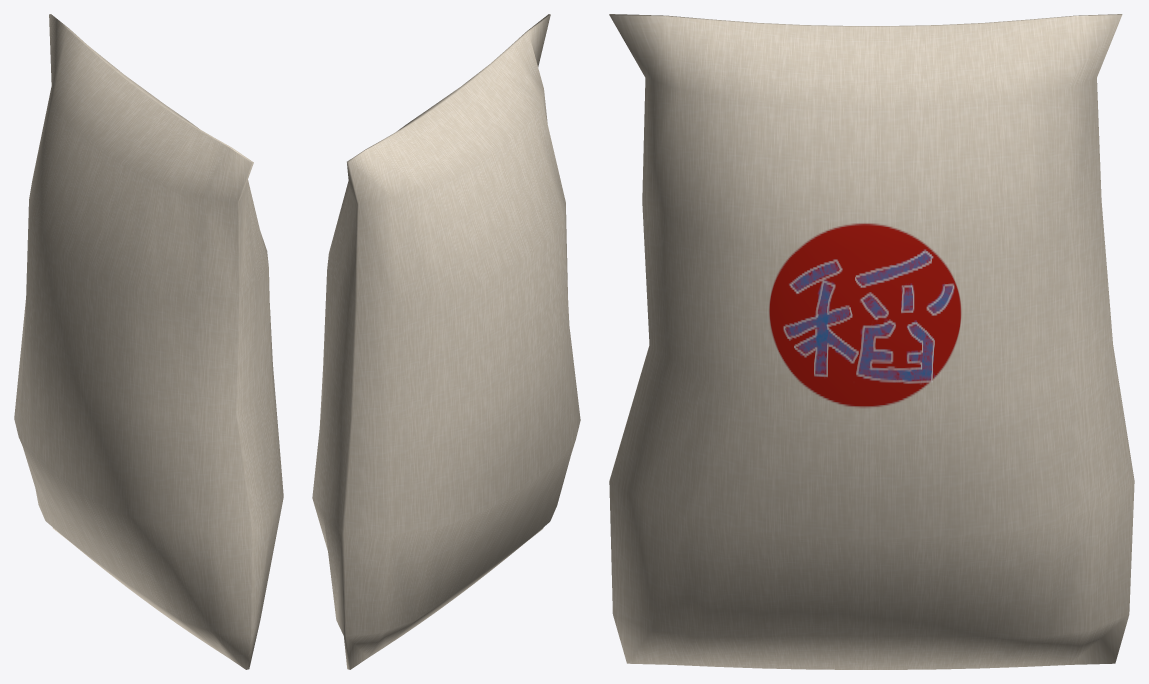
Rendered from rice.fbx.
3 renders of one model, left to right at view 1: azimuth 30°, elevation 25°; view 2: azimuth 150°, elevation 25°; view 3: azimuth 270°, elevation 25°, orthographic. The views are drawn at different scales.
Parts seen in each view (by area): view 1: Plane; view 2: Plane; view 3: Plane.
Part boxes in pixels (left/top/right/bottom): Plane: left=14, top=14, right=283, bottom=669; Plane: left=312, top=14, right=580, bottom=669; Plane: left=609, top=14, right=1134, bottom=669.
Size of the model in its own units: 163 by 446 by 325.
1 material, 1 textured.
